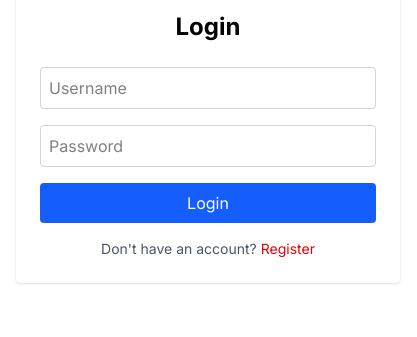
Test case: LoginPage › shows error on failed login
The image size is (417, 337).
Type "baduser" into the field with placeholder "Username" at coordinates (208, 88), box [40,67,376,109]
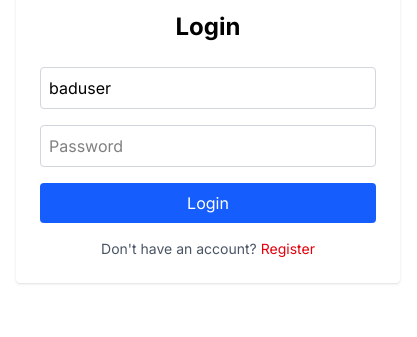
Type "wrong" into the password field with placeholder "Password" at coordinates (208, 146), box [40,125,376,167]
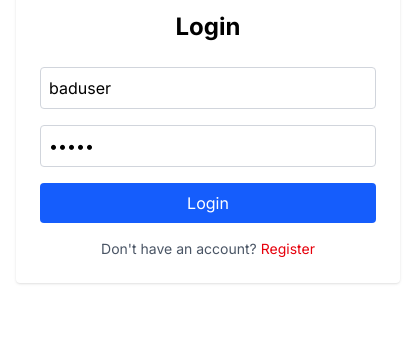
Click the button "Login" at coordinates (208, 203), box [40,183,376,223]
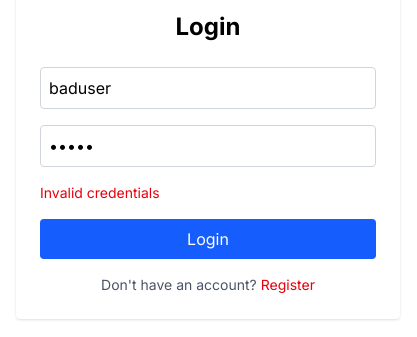
Check: the text "Invalid credentials" is shown, box [40,184,160,201]
